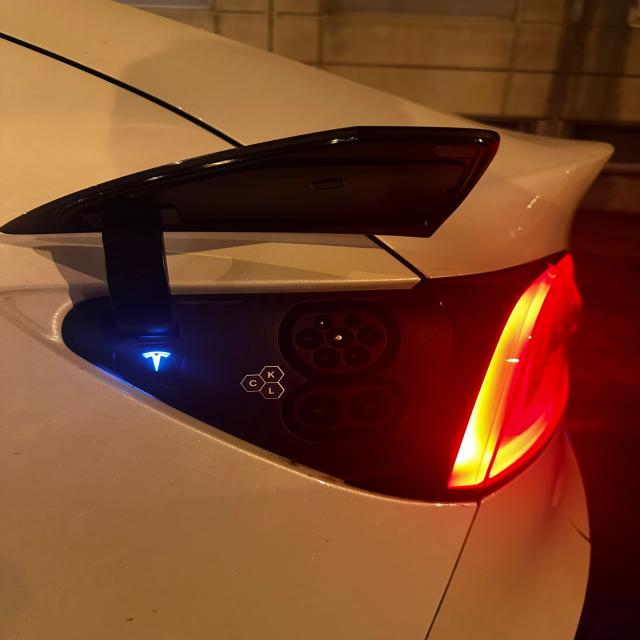inlet: (292, 311, 387, 373)
inlet-above-left: (314, 315, 333, 330)
inlet-above-right: (343, 313, 363, 328)
inlet-below-left: (313, 346, 341, 369)
inlet-below-right: (343, 346, 371, 367)
inlet-circle: (326, 326, 353, 348)
inlet-circle-left: (296, 328, 324, 350)
inlet-circle-right: (356, 325, 384, 347)
inlet-minus: (350, 390, 392, 422)
inlet-plus: (298, 393, 343, 428)
